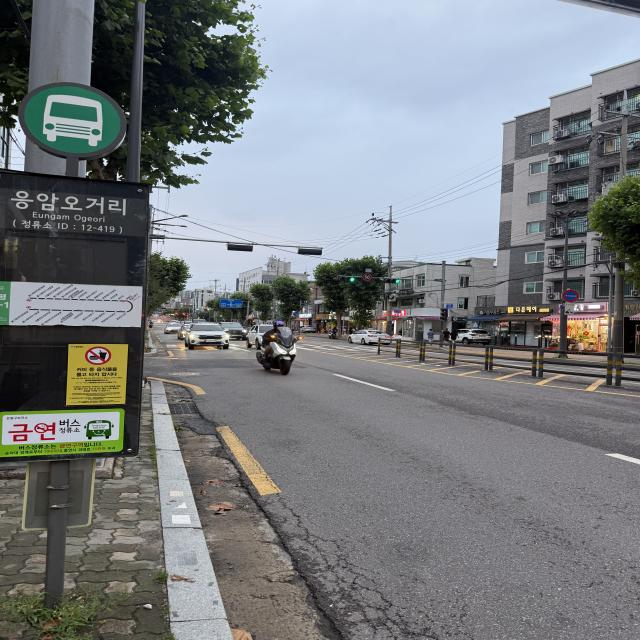car: (182, 320, 234, 352), (344, 327, 395, 346), (446, 326, 494, 346), (217, 320, 249, 342), (162, 322, 185, 335), (297, 323, 320, 335)
motorcycle: (254, 318, 303, 379), (326, 326, 340, 341)
